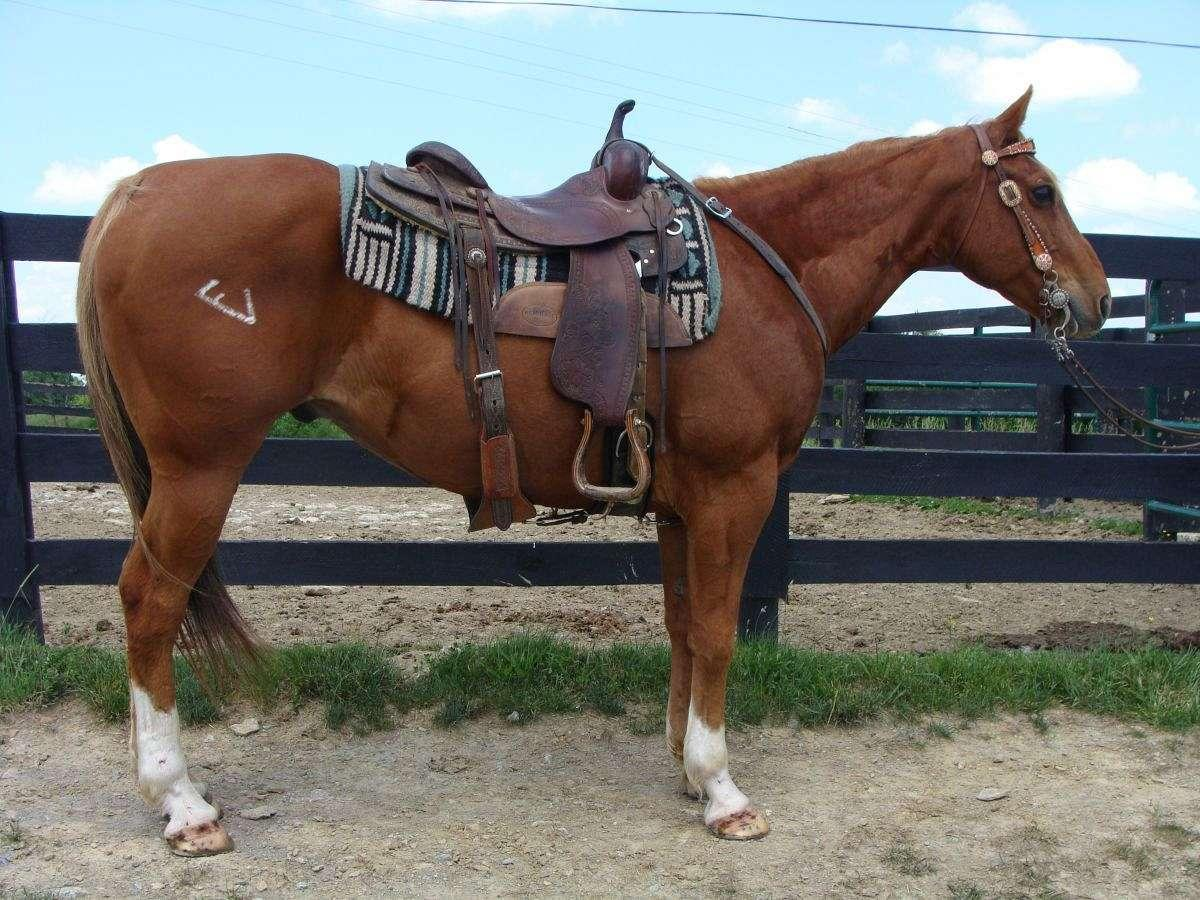horse: (63, 74, 1121, 867)
